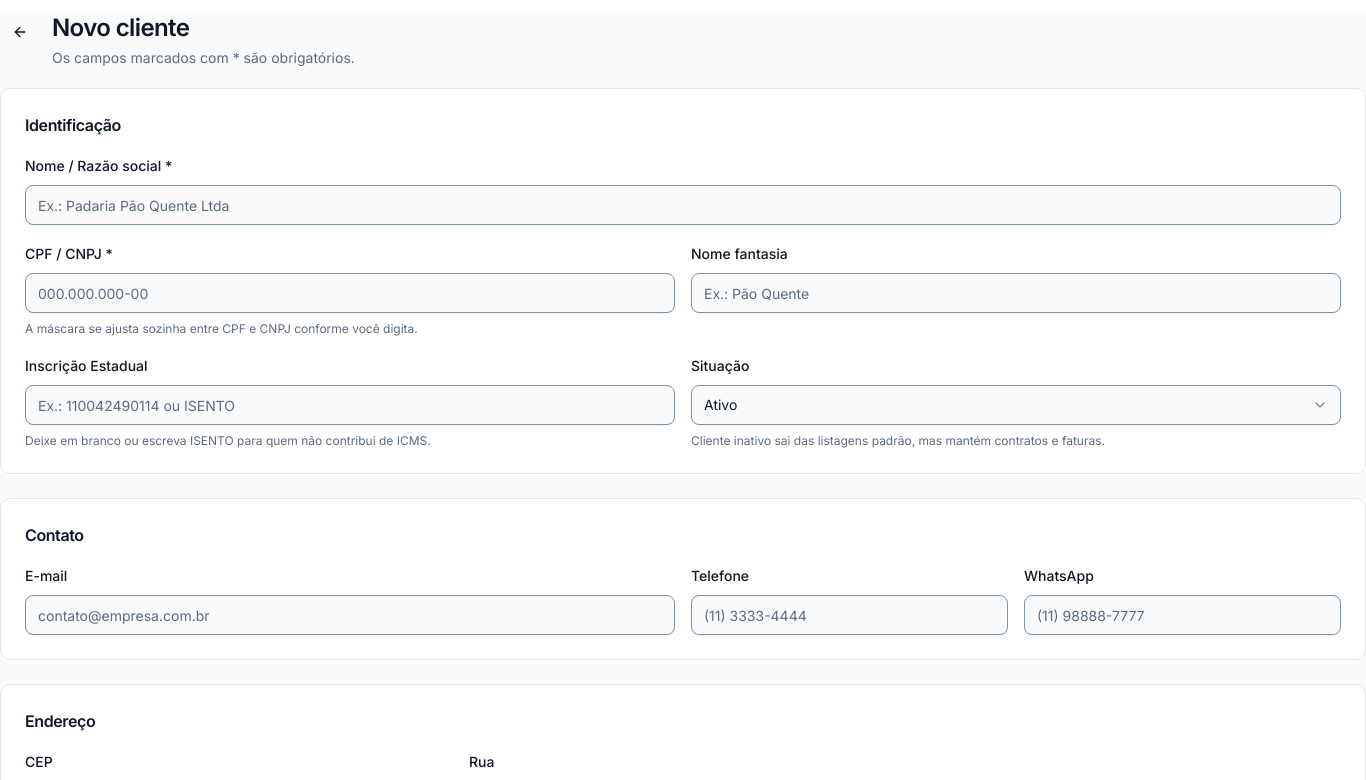
Scenario: cadastro de cliente — validação no navegador › aplica as máscaras enquanto se digita
In the field labelled "CPF / CNPJ *": coordinates (350, 293) top-left (25, 273), bottom-right (675, 313), type "11222333000181"
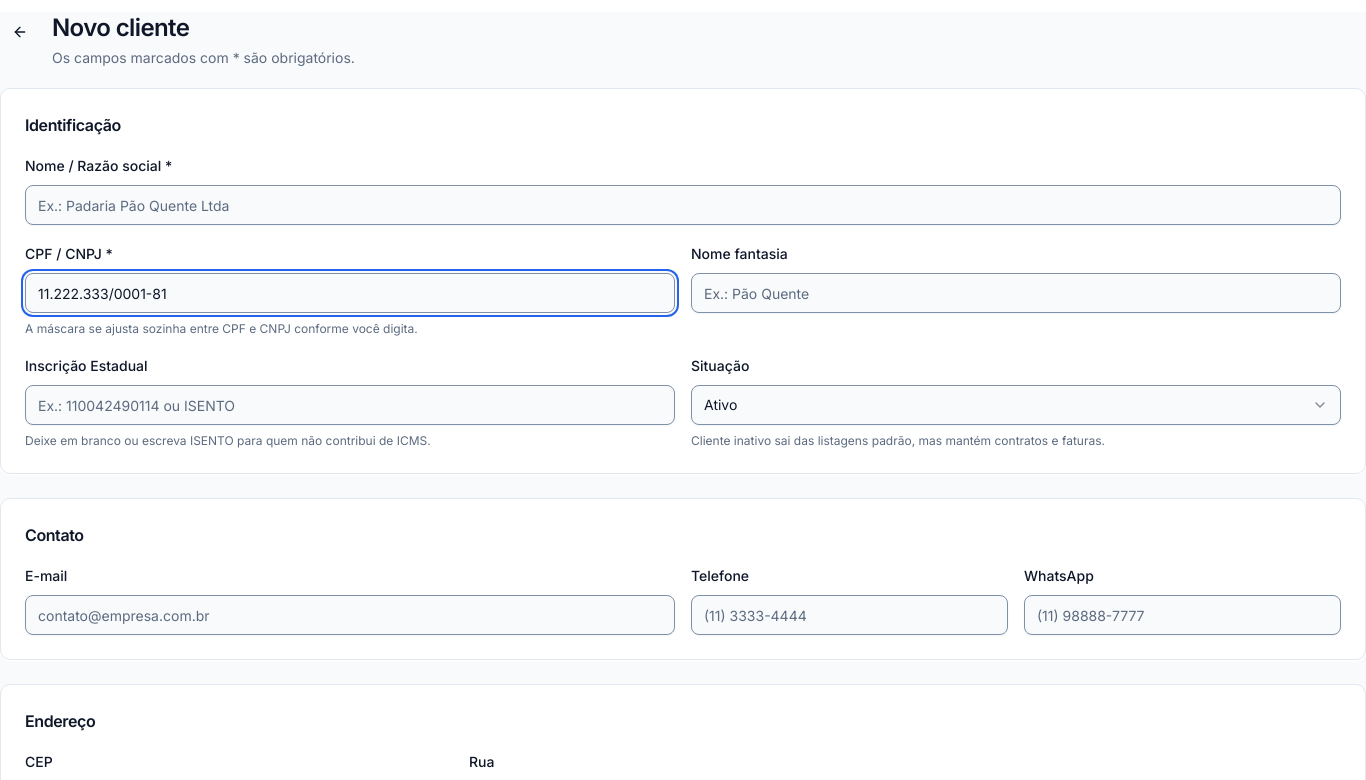
In the field labelled "WhatsApp": coordinates (1182, 615) top-left (1024, 595), bottom-right (1341, 635), type "11988887777"
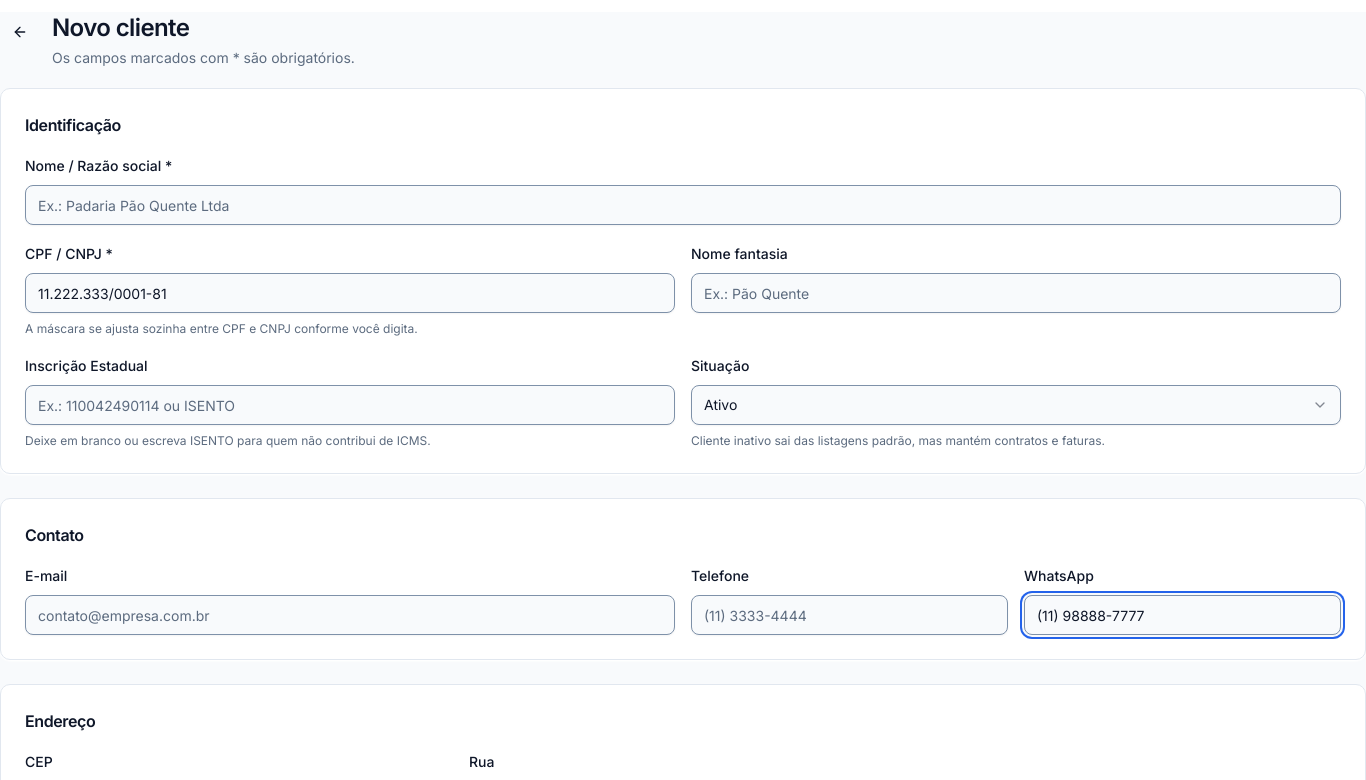
Result: the field labelled "CPF / CNPJ *" holds "11.222.333/0001-81" at top-left (25, 273), bottom-right (675, 313)
Result: the field labelled "WhatsApp" holds "(11) 98888-7777" at top-left (1024, 595), bottom-right (1341, 635)
